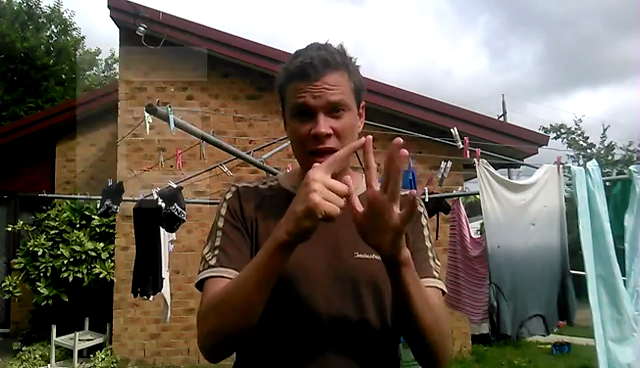E: (288, 127, 435, 263)
